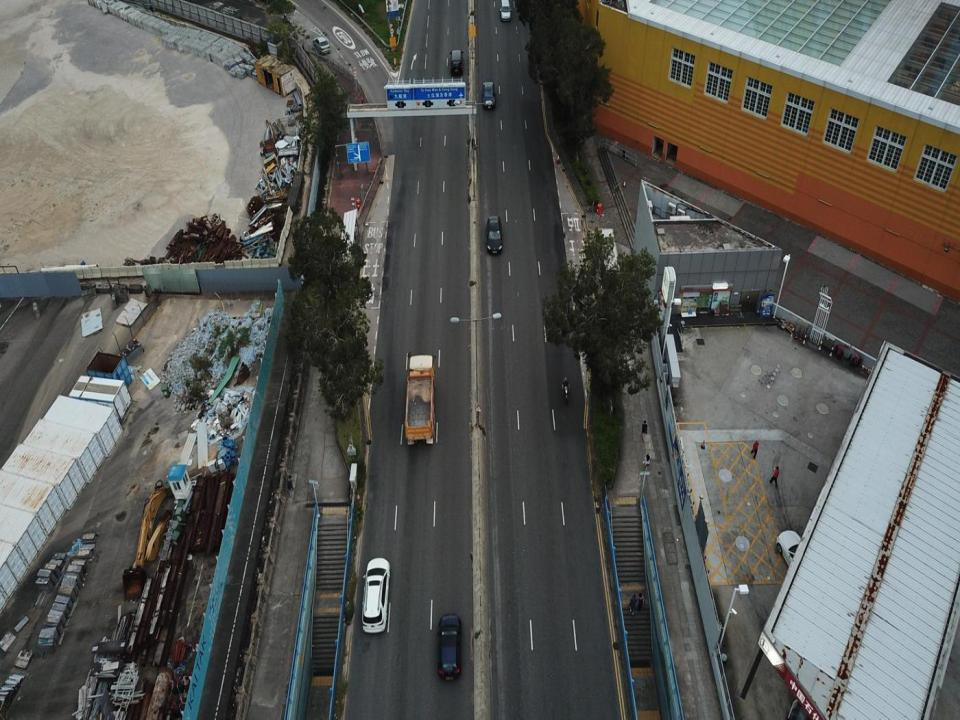car: (361, 555, 392, 635), (776, 526, 817, 586), (436, 611, 462, 681), (484, 214, 504, 256), (480, 79, 496, 109), (449, 48, 464, 74), (313, 36, 329, 53), (500, 0, 511, 21), (636, 589, 644, 614), (630, 592, 638, 615)
truck: (403, 354, 437, 444)
